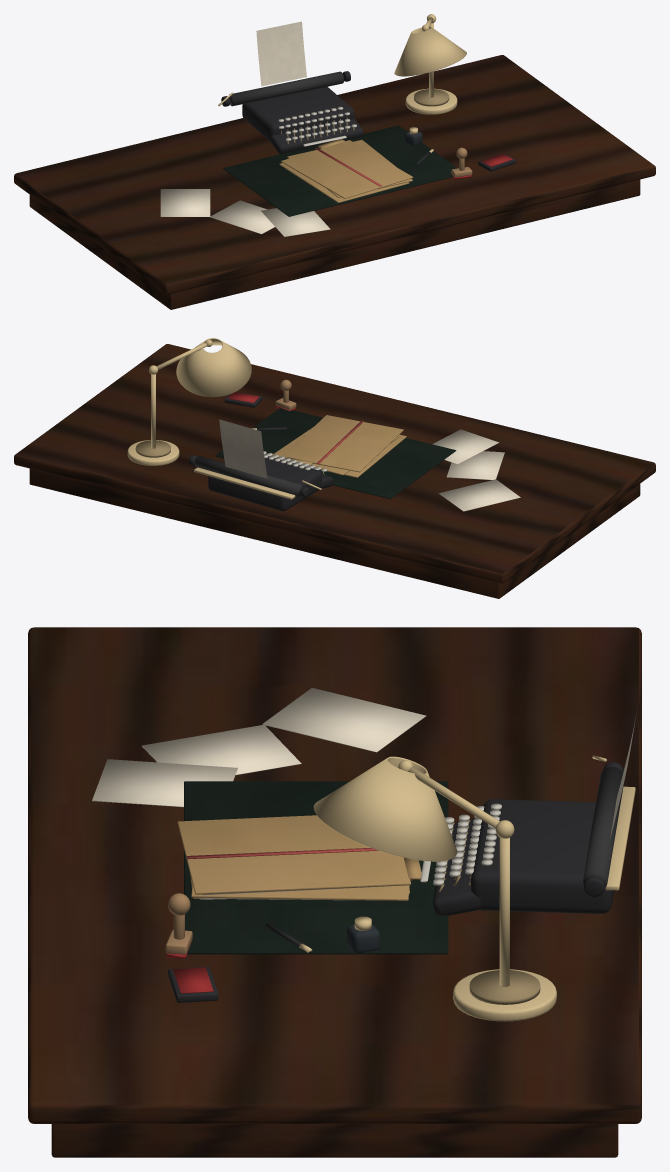
Rendered from escritorio.glb.
3 renders of one model, top to bottom at view 1: azimuth 30°, elevation 25°; view 2: azimuth 150°, elevation 25°; view 3: azimuth 270°, elevation 25°, orthographic. The views are drawn at different scales.
Parts seen in each view (by area): view 1: Mesa, Faldon, Vade, Carpeta_2, Maquina_cuerpo, Maquina_hoja, Lampara_pantalla, Rodillo, Papel_3, Maquina_frente, Papel_0, Papel_1 (+3 smaller); view 2: Mesa, Faldon, Vade, Carpeta_2, Lampara_pantalla, Maquina_cuerpo, Maquina_hoja, Papel_3, Rodillo, Papel_0, Papel_1, Lampara_base (+3 smaller); view 3: Mesa, Vade, Faldon, Carpeta_2, Maquina_cuerpo, Lampara_pantalla, Papel_3, Papel_0, Papel_1, Rodillo, Lampara_base, Carpeta_1 (+7 smaller).
Boxes of the visible parts, <box> form: Mesa: <box>14,55,655,294</box>; Faldon: <box>29,179,640,309</box>; Vade: <box>223,125,457,216</box>; Carpeta_2: <box>281,140,413,198</box>; Maquina_cuerpo: <box>242,86,354,140</box>; Maquina_hoja: <box>256,21,306,86</box>; Lampara_pantalla: <box>394,26,466,76</box>; Rodillo: <box>229,71,343,106</box>; Papel_3: <box>160,189,210,216</box>; Maquina_frente: <box>269,118,363,153</box>; Papel_0: <box>210,200,274,234</box>; Papel_1: <box>261,208,330,236</box>; Mesa: <box>14,344,655,583</box>; Faldon: <box>29,468,640,598</box>; Vade: <box>215,408,456,498</box>; Carpeta_2: <box>283,415,403,472</box>; Lampara_pantalla: <box>176,338,251,397</box>; Maquina_cuerpo: <box>208,456,321,511</box>; Maquina_hoja: <box>219,419,267,478</box>; Papel_3: <box>439,479,520,511</box>; Rodillo: <box>195,456,303,496</box>; Papel_0: <box>446,451,504,479</box>; Papel_1: <box>432,429,499,464</box>; Lampara_base: <box>127,440,179,465</box>; Mesa: <box>28,627,641,1123</box>; Vade: <box>184,781,448,954</box>; Faldon: <box>51,1124,618,1157</box>; Carpeta_2: <box>177,815,411,894</box>; Maquina_cuerpo: <box>471,799,614,913</box>; Lampara_pantalla: <box>313,756,457,861</box>; Papel_3: <box>262,688,426,752</box>; Papel_0: <box>142,725,301,775</box>; Papel_1: <box>92,759,237,807</box>; Rodillo: <box>583,766,623,888</box>; Lampara_base: <box>453,969,556,1021</box>; Carpeta_1: <box>191,883,409,900</box>.
Size of the model in its own units: 2.4 by 0.641 by 1.3.
14 materials, 4 textured.
